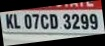character: (48, 13, 58, 29), (39, 14, 49, 29), (23, 13, 32, 29), (62, 13, 71, 29), (71, 13, 80, 29), (89, 13, 98, 29), (5, 13, 14, 28), (31, 13, 39, 29), (80, 13, 88, 29), (12, 14, 21, 28)
